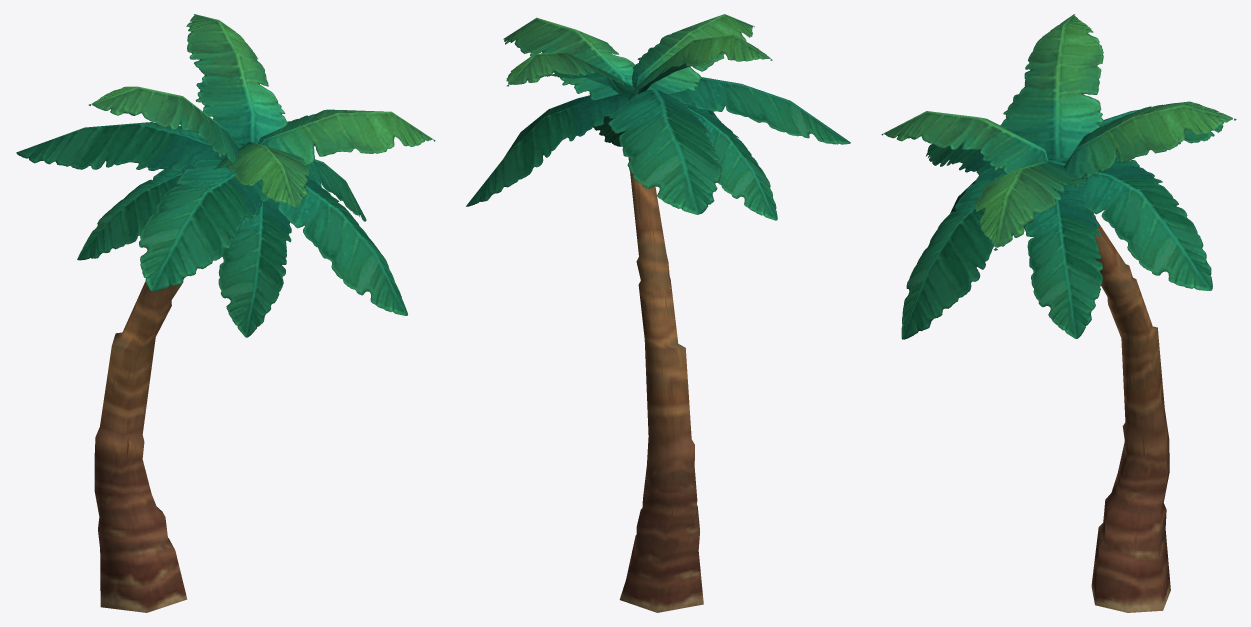
File: hbxz_plant003_01.FBX
3 views of the same model, side by side, from view 1: azimuth 30°, elevation 25°; view 2: azimuth 150°, elevation 25°; view 3: azimuth 270°, elevation 25° (orthographic).
Parts seen in each view (by area): view 1: hbxz_plant003_01; view 2: hbxz_plant003_01; view 3: hbxz_plant003_01.
Part boxes in pixels (box(x1,y1,x2,y2)): hbxz_plant003_01: box(16, 14, 435, 612); hbxz_plant003_01: box(466, 14, 850, 612); hbxz_plant003_01: box(881, 14, 1236, 612).
Bounding box in the file's own units: 294 × 482 × 281.
